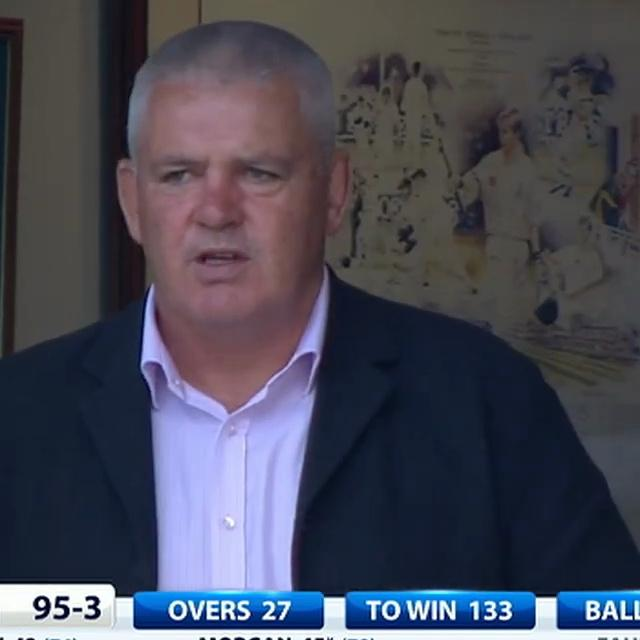person: (0, 8, 640, 598)
